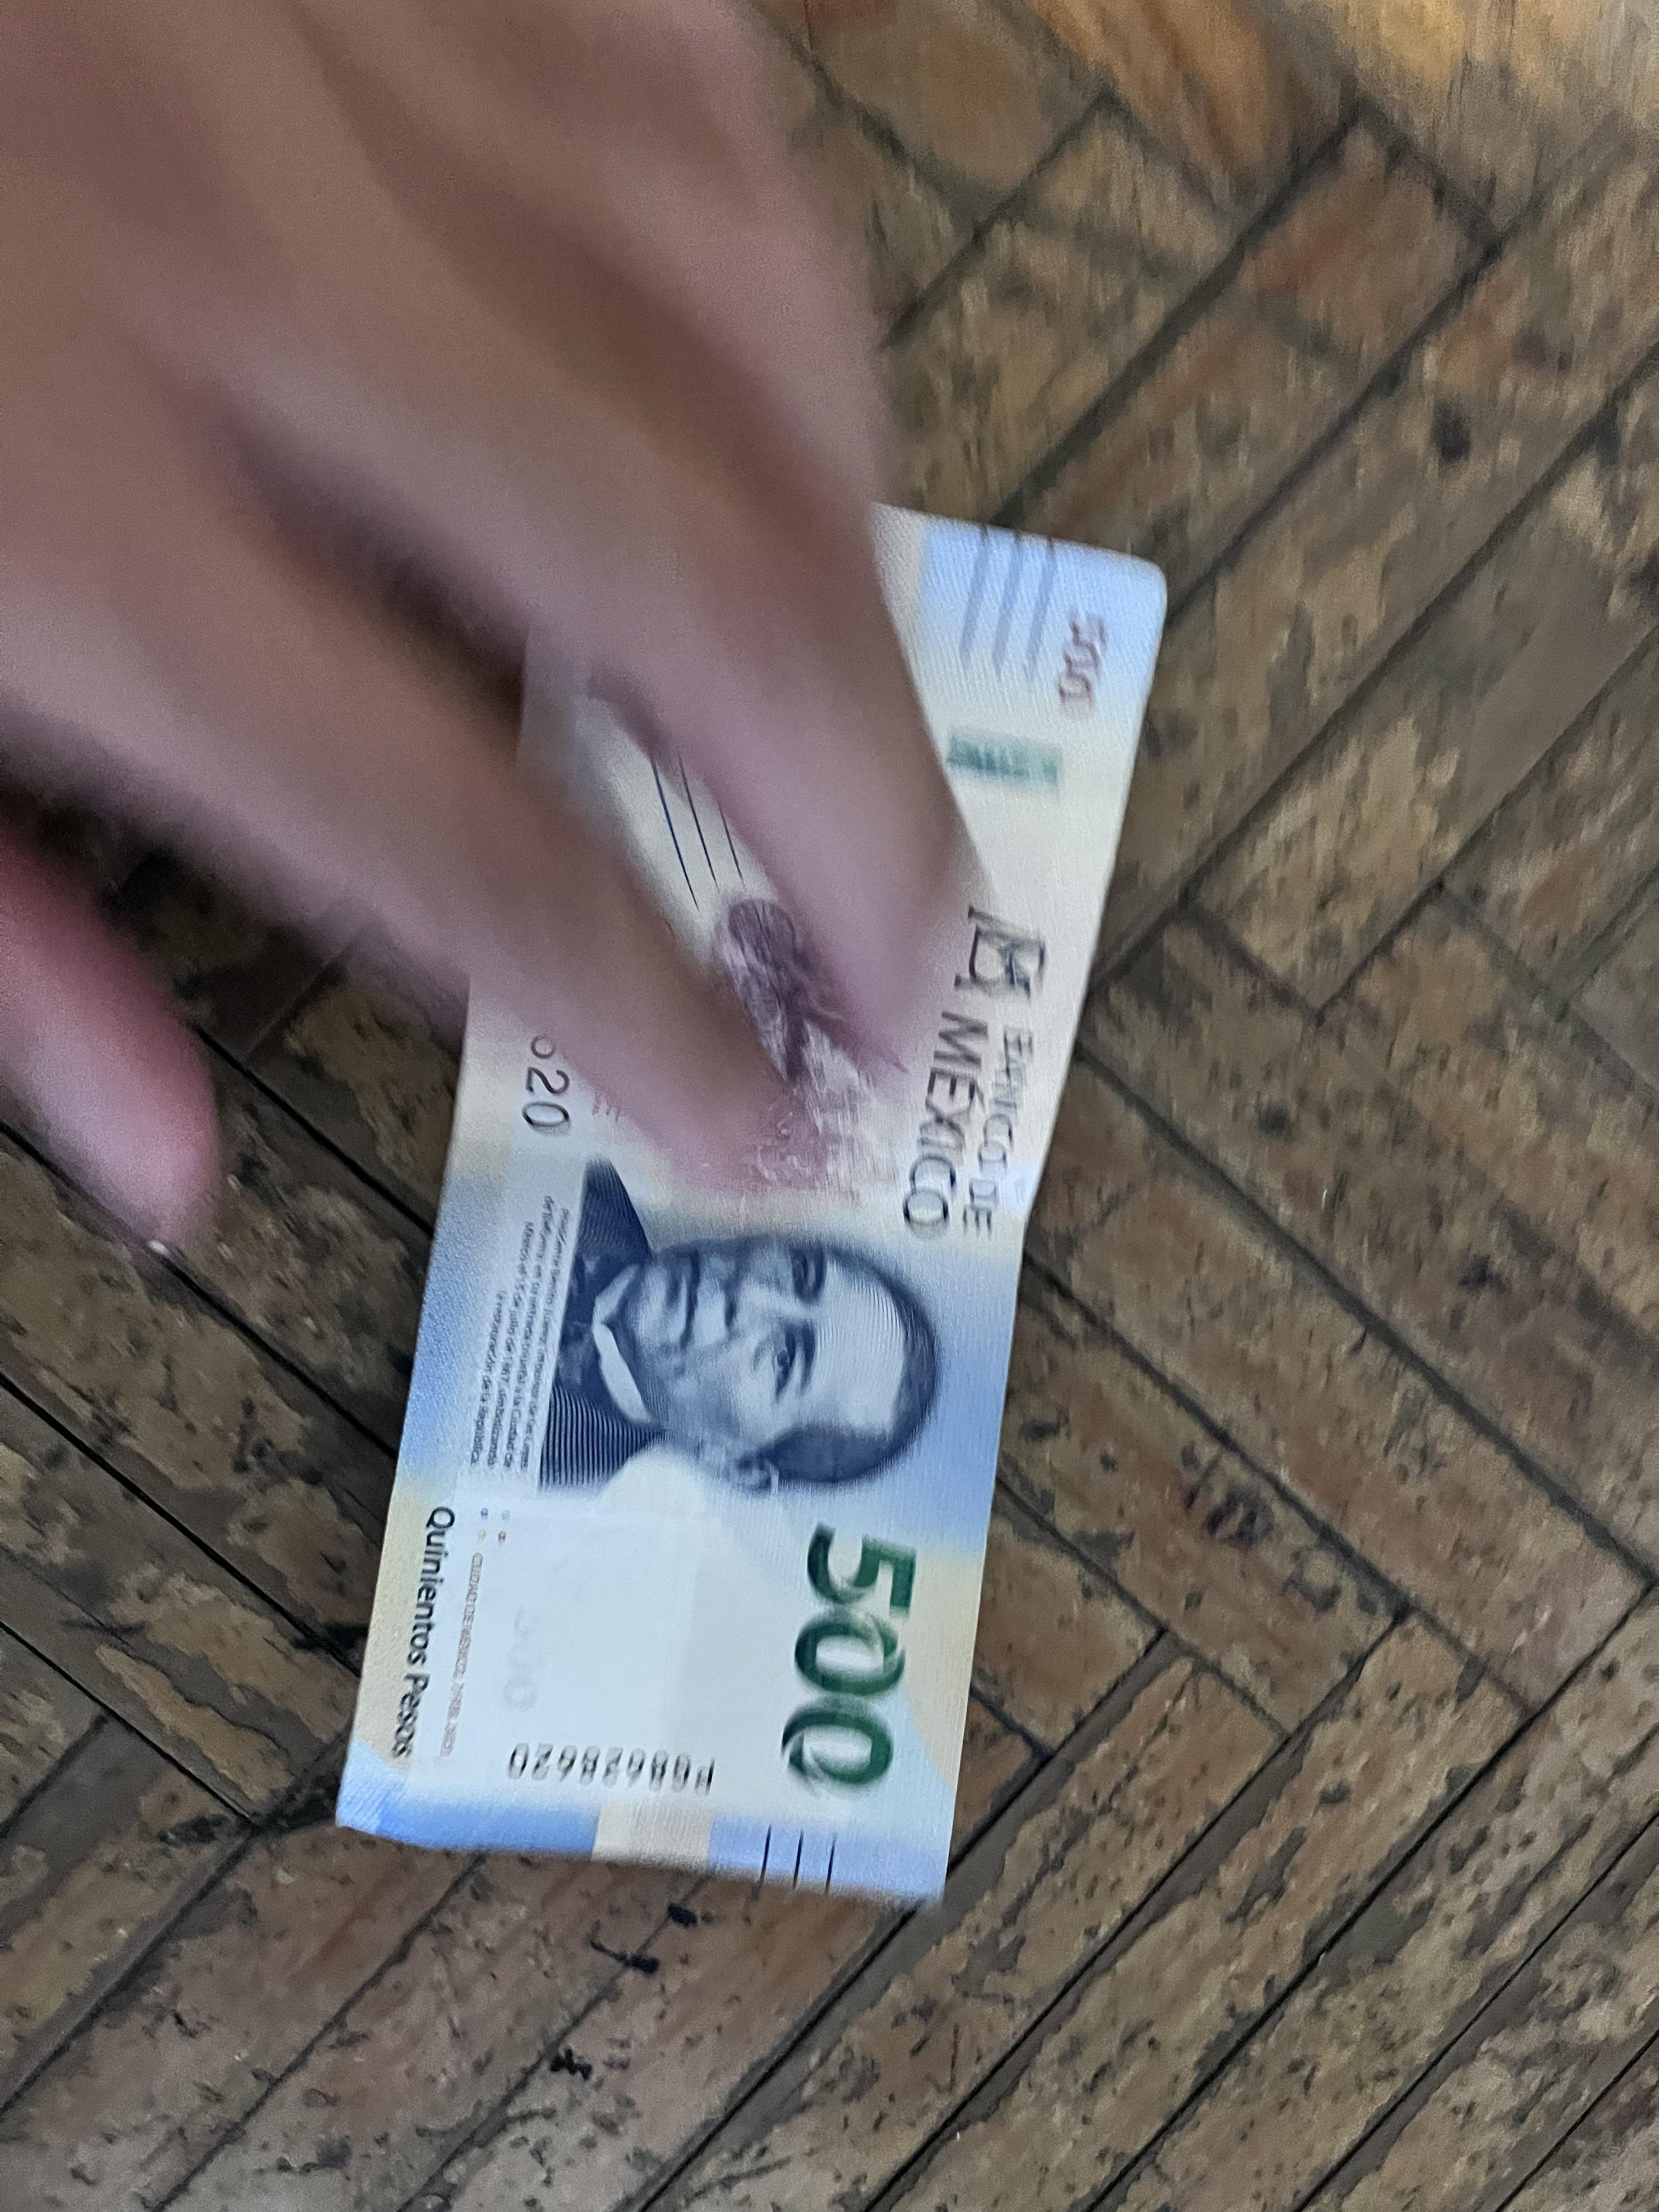500 nuevo: (312, 439, 1195, 1942)
